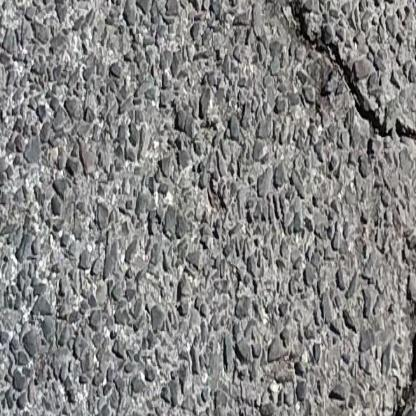Cracks: (279, 0, 416, 184), (385, 283, 416, 416)
